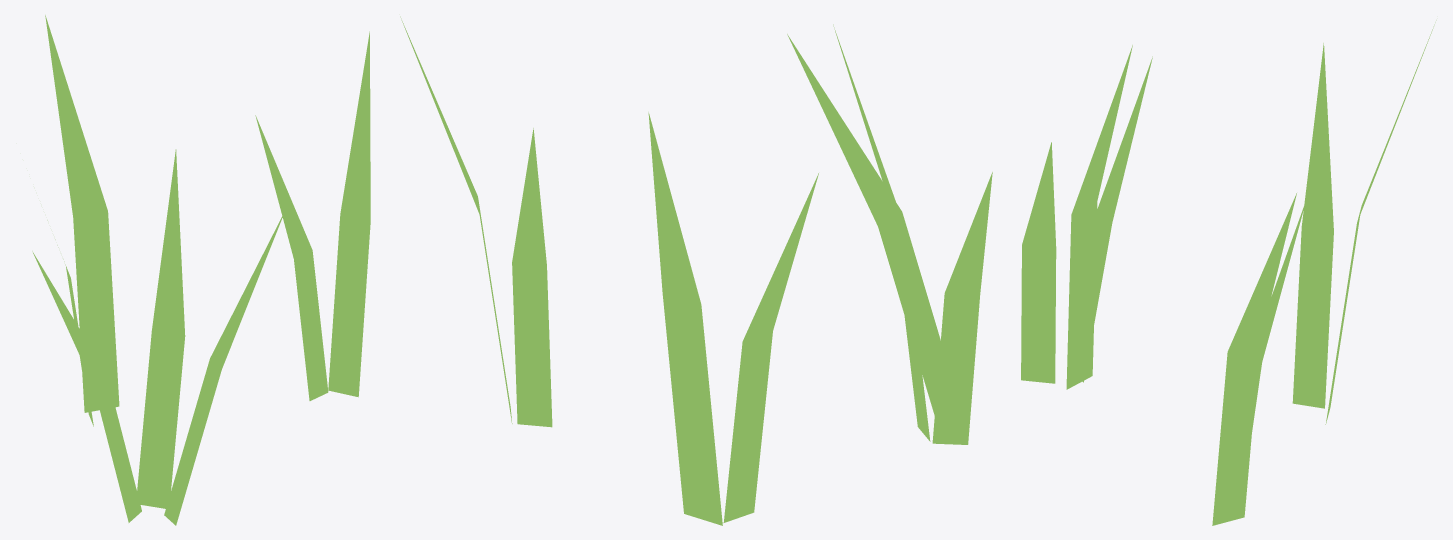
Rendered from Grass_b_TwoS_06.fbx.
3 views of the same model, side by side, from view 1: azimuth 30°, elevation 25°; view 2: azimuth 150°, elevation 25°; view 3: azimuth 270°, elevation 25° (orthographic). The views are drawn at different scales.
Parts seen in each view (by area): view 1: Grass_b_TwoS_06; view 2: Grass_b_TwoS_06; view 3: Grass_b_TwoS_06.
Part boxes in pixels (left/top/right/bottom): Grass_b_TwoS_06: left=32, top=15, right=370, bottom=525; Grass_b_TwoS_06: left=400, top=16, right=992, bottom=525; Grass_b_TwoS_06: left=1021, top=20, right=1436, bottom=525.
Size of the model in its own units: 0.5476 by 0.4746 by 0.4445.
